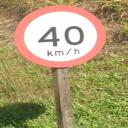speed_limit_40: (14, 4, 106, 68)
